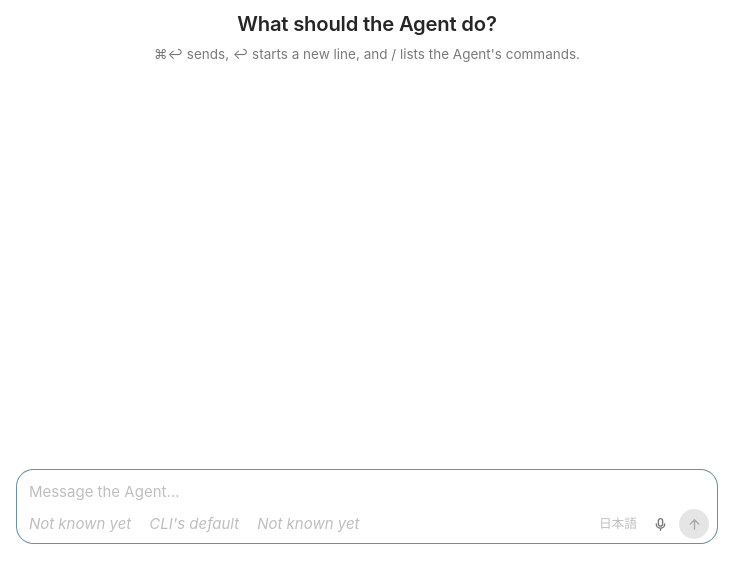
it: dictating in the composer › listens for the language chosen beside it
Click the button with aria-label "Dictation language: 日本語": (618, 524) [595, 514, 641, 534]
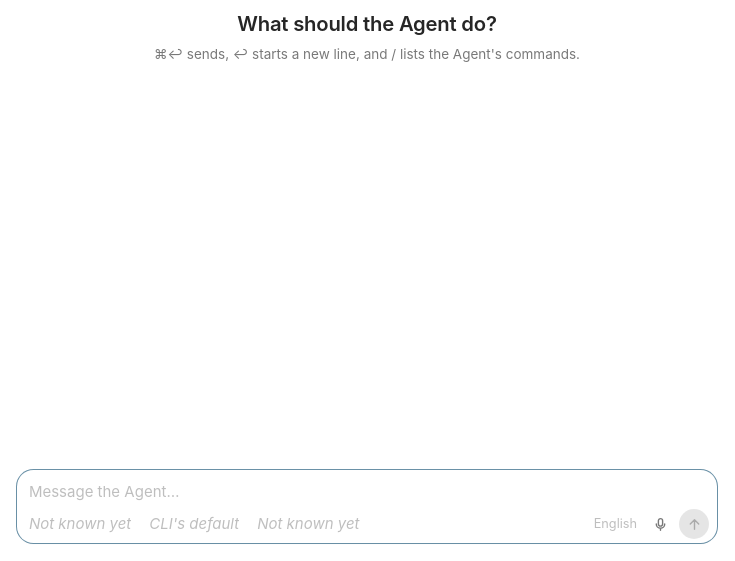
Click the button named "Dictate": (660, 524) [645, 509, 675, 539]
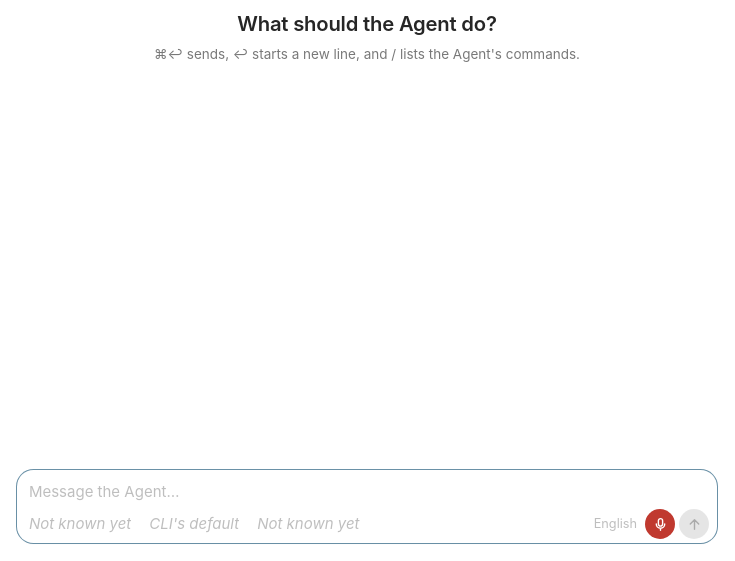
Expected: the button named "Stop dictating" is shown, [645, 509, 675, 539]
